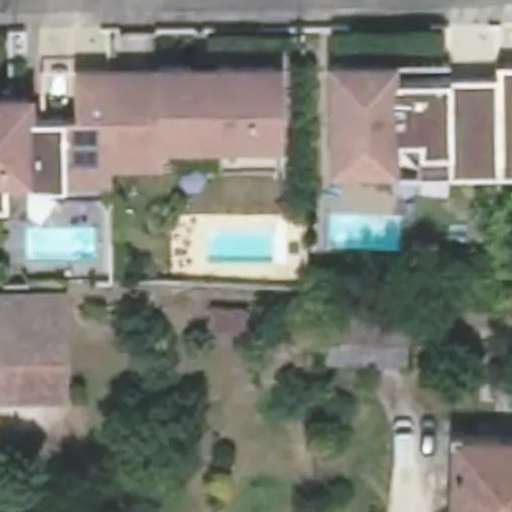pool: (216, 219, 295, 263)
